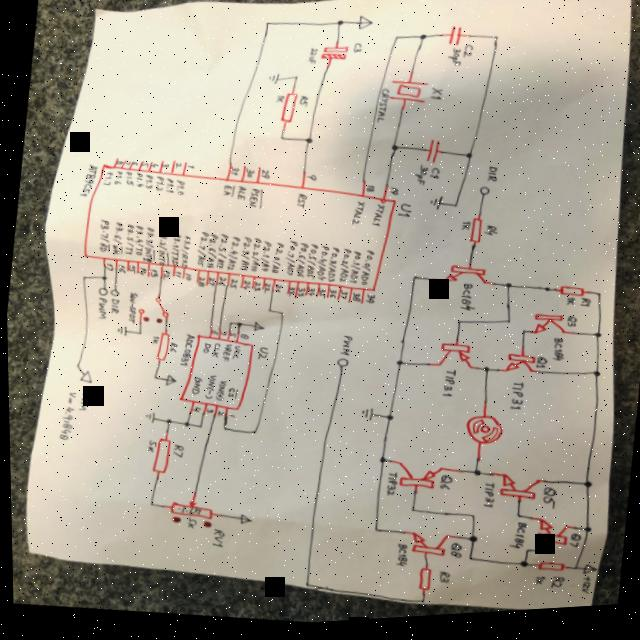capacitor: (421, 142, 441, 170), (319, 48, 348, 66), (446, 30, 462, 53)
ground: (425, 199, 442, 216), (357, 410, 372, 426), (266, 75, 279, 89), (114, 325, 125, 338), (142, 413, 153, 425)
junction: (515, 564, 526, 574), (388, 147, 399, 157), (468, 474, 479, 483), (579, 486, 590, 495), (463, 540, 474, 549), (588, 376, 599, 384), (463, 156, 472, 165), (591, 337, 600, 346), (161, 419, 171, 427), (302, 140, 312, 148), (374, 460, 384, 468), (97, 275, 107, 283), (418, 38, 427, 46), (479, 371, 488, 379), (392, 363, 401, 371), (580, 532, 589, 540), (502, 287, 511, 295), (193, 424, 202, 432), (465, 517, 474, 525), (247, 430, 256, 438), (291, 77, 299, 85), (382, 418, 391, 425), (180, 422, 189, 429), (408, 279, 417, 286), (490, 39, 499, 46), (415, 602, 424, 609), (544, 555, 553, 562), (592, 297, 599, 305), (405, 511, 413, 518), (263, 310, 271, 317), (511, 518, 519, 525), (275, 313, 283, 320), (335, 23, 343, 30), (145, 502, 152, 509), (450, 207, 458, 213), (463, 561, 471, 567), (276, 138, 284, 144), (219, 428, 226, 434), (369, 531, 376, 537), (503, 324, 510, 330), (454, 324, 460, 330), (393, 39, 399, 45), (79, 275, 85, 281), (300, 585, 307, 590), (134, 332, 140, 337), (149, 376, 155, 381), (518, 335, 524, 340), (264, 24, 270, 29), (521, 554, 527, 559), (234, 325, 240, 330), (569, 572, 575, 577), (226, 323, 231, 328), (72, 363, 77, 368)
resistor: (165, 499, 211, 524), (147, 438, 169, 477), (277, 95, 297, 128), (152, 333, 168, 363), (465, 222, 482, 250), (412, 570, 429, 597), (533, 565, 563, 580), (556, 290, 583, 304)
source: (356, 18, 372, 35), (578, 570, 595, 583), (162, 375, 175, 388), (235, 516, 249, 528), (250, 323, 263, 335)
switch: (135, 296, 169, 321)
terminal: (77, 371, 90, 384), (333, 361, 346, 372), (476, 191, 488, 201), (95, 288, 106, 297), (107, 290, 118, 298)
text: (54, 391, 75, 441), (76, 164, 98, 199), (153, 231, 171, 267), (175, 335, 194, 369), (356, 253, 373, 291), (93, 220, 111, 255), (280, 242, 297, 279), (291, 245, 308, 281), (505, 385, 524, 417), (454, 288, 474, 318), (504, 526, 524, 556), (222, 239, 239, 274), (107, 223, 124, 257), (140, 228, 156, 264), (302, 246, 317, 284), (192, 233, 207, 270), (312, 248, 327, 285), (347, 202, 366, 231), (366, 205, 386, 232), (374, 92, 389, 128), (236, 238, 251, 274), (246, 240, 261, 275), (380, 473, 398, 502), (267, 245, 283, 277), (437, 373, 454, 403), (345, 254, 360, 288), (324, 251, 338, 287), (336, 252, 350, 288), (203, 236, 217, 271), (213, 236, 227, 271), (130, 226, 145, 258), (256, 243, 271, 275), (477, 486, 494, 514), (389, 546, 407, 572), (121, 225, 135, 257), (176, 237, 189, 271), (167, 234, 180, 267), (537, 492, 554, 516), (124, 292, 136, 326), (206, 529, 223, 552), (200, 376, 215, 402), (74, 387, 89, 412), (246, 189, 262, 212), (548, 344, 563, 368), (445, 52, 462, 73), (172, 505, 199, 518), (336, 338, 351, 360), (412, 169, 427, 191), (93, 297, 106, 321), (435, 479, 451, 498), (483, 170, 498, 189), (394, 207, 411, 223), (444, 547, 460, 564), (212, 382, 224, 404), (293, 195, 307, 213), (187, 379, 200, 398), (546, 581, 561, 597), (305, 50, 318, 68), (576, 582, 588, 601), (168, 445, 182, 461), (564, 539, 578, 555), (253, 349, 267, 364), (427, 92, 442, 106), (433, 575, 447, 590), (219, 346, 230, 365), (460, 49, 473, 65), (480, 230, 497, 242), (172, 181, 184, 198), (220, 186, 234, 200), (153, 177, 164, 194), (532, 362, 545, 376), (575, 303, 590, 315), (100, 172, 112, 187), (122, 172, 134, 187), (162, 180, 174, 195), (107, 299, 118, 315), (234, 188, 245, 204), (141, 175, 152, 191), (208, 344, 218, 361), (562, 322, 575, 335), (229, 347, 239, 363), (133, 173, 143, 189), (143, 441, 155, 454), (224, 389, 236, 402), (111, 172, 121, 187), (183, 518, 194, 531), (530, 581, 543, 592), (297, 98, 307, 112), (459, 225, 470, 237), (427, 172, 438, 184), (363, 187, 374, 198), (362, 297, 373, 308), (243, 170, 254, 181), (351, 46, 361, 58), (315, 290, 324, 303), (101, 263, 112, 273), (349, 296, 359, 307), (336, 293, 346, 304), (258, 172, 269, 182), (228, 168, 238, 179), (147, 269, 157, 280), (562, 303, 573, 313), (326, 291, 335, 303), (304, 289, 313, 301), (272, 97, 284, 106), (216, 278, 225, 290), (195, 278, 204, 290), (239, 283, 249, 293), (294, 290, 303, 301), (227, 281, 236, 292), (200, 345, 209, 356), (166, 344, 175, 355), (387, 191, 398, 200), (159, 271, 168, 282), (125, 265, 134, 276), (114, 265, 125, 274), (271, 286, 280, 296), (285, 289, 293, 300), (261, 286, 269, 297), (251, 284, 259, 295), (304, 177, 315, 185), (148, 337, 157, 346), (181, 274, 190, 283), (136, 268, 145, 277), (237, 335, 247, 343), (138, 162, 148, 170), (207, 331, 216, 339), (205, 279, 213, 288), (189, 408, 199, 415), (172, 272, 180, 280), (202, 409, 211, 416), (214, 413, 222, 420), (226, 334, 234, 341), (173, 163, 180, 171), (185, 166, 193, 172), (160, 164, 168, 170), (225, 416, 233, 421), (149, 164, 157, 169), (114, 161, 122, 166), (217, 333, 224, 338), (122, 162, 129, 167), (130, 163, 136, 168)
transistor: (392, 464, 441, 497), (494, 477, 538, 508), (529, 521, 571, 553), (438, 268, 486, 294), (405, 534, 446, 563), (433, 345, 471, 375), (530, 318, 565, 344), (501, 357, 534, 382)
